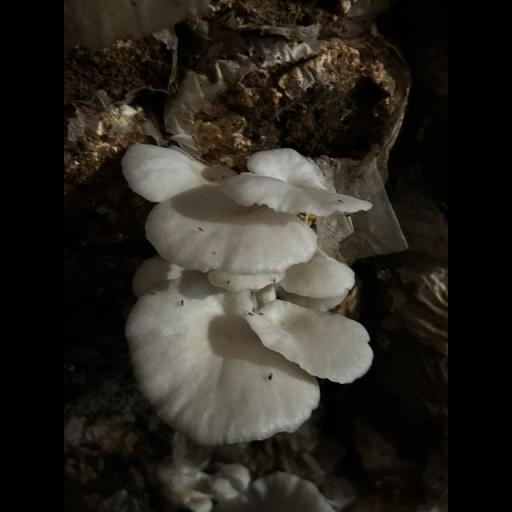White Oyster Mushroom: (112, 125, 380, 441)
